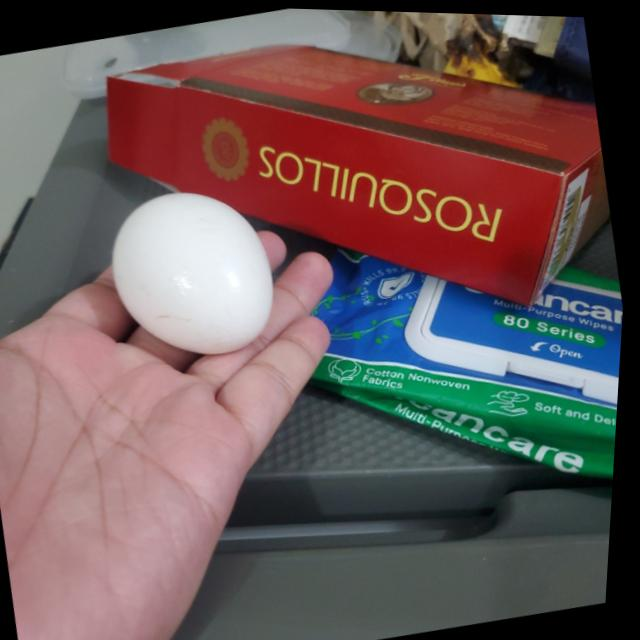egg: (98, 174, 291, 369)
